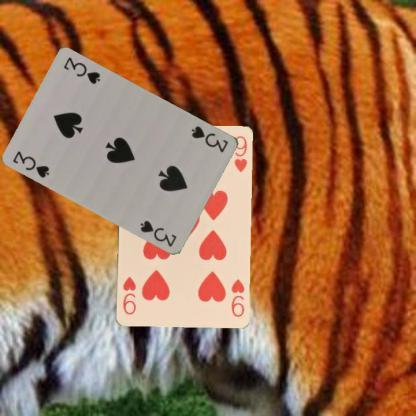3s: (189, 123, 230, 154), (10, 148, 51, 179)
9h: (228, 276, 246, 318)
